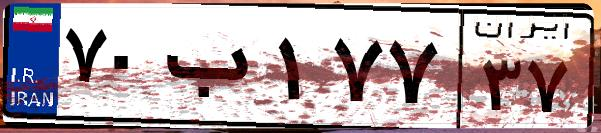0: (110, 28, 158, 98)
1: (270, 28, 330, 110)
3: (475, 38, 525, 113)
7: (385, 28, 445, 110), (330, 28, 385, 110), (57, 26, 110, 100), (525, 38, 570, 115)
ب: (158, 20, 270, 120)
